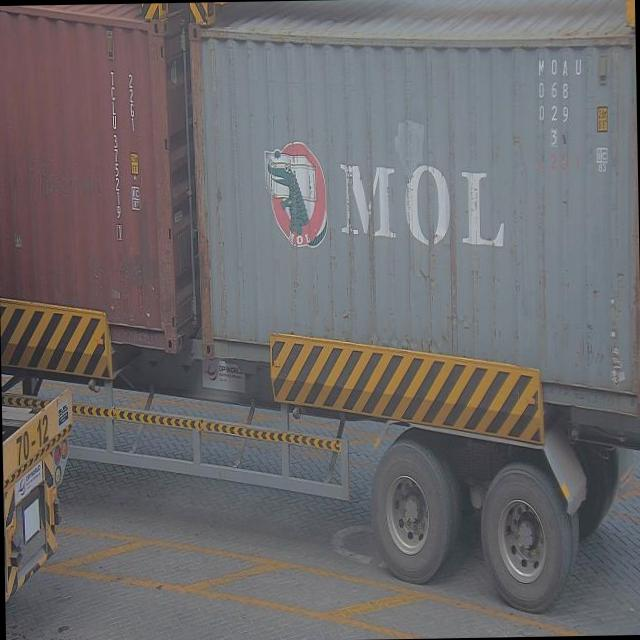Rust: (180, 20, 220, 357)
